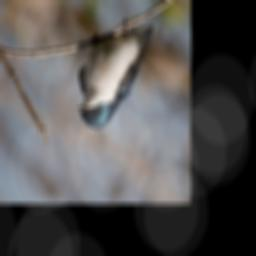Swallow: (78, 16, 155, 129)
